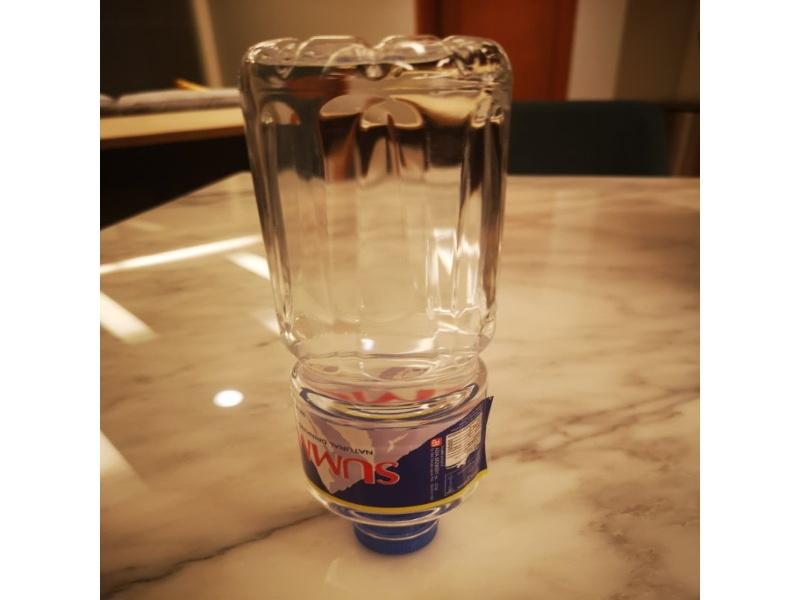PET #1: (237, 31, 518, 560)
